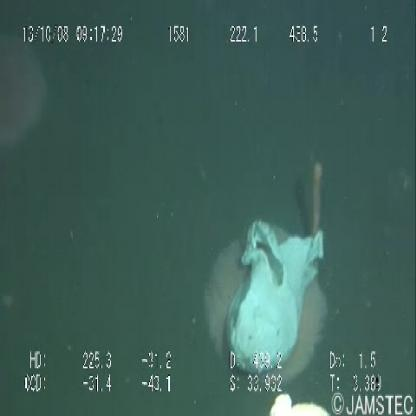Rác: (221, 211, 332, 376)
